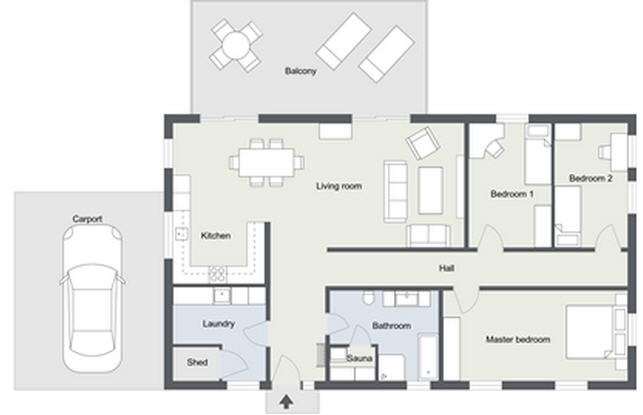room: (159, 109, 470, 253), (436, 282, 639, 394), (322, 285, 445, 394), (548, 111, 637, 252), (464, 114, 553, 255), (164, 280, 271, 390)
